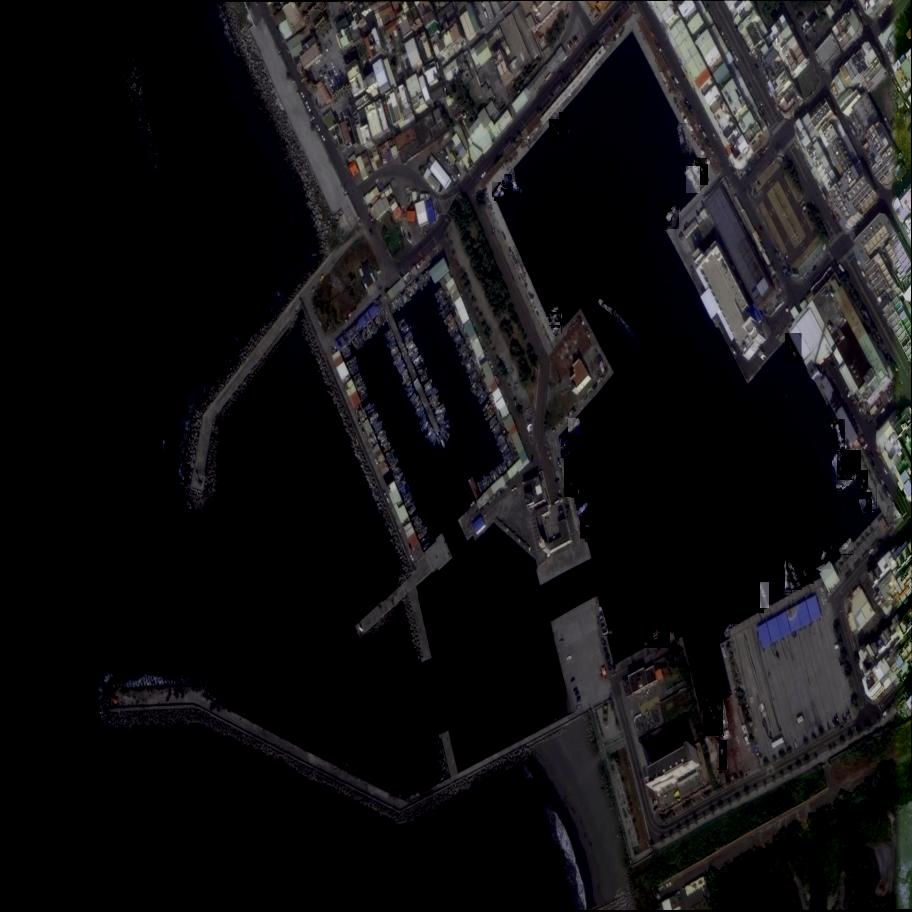ship: (702, 694, 725, 736), (640, 623, 673, 649), (832, 454, 855, 485), (836, 450, 859, 480), (716, 696, 731, 741), (784, 333, 804, 365), (747, 583, 766, 613), (796, 554, 815, 584), (565, 459, 579, 497), (662, 203, 681, 230), (686, 165, 709, 186), (596, 300, 619, 321), (547, 119, 567, 143), (787, 561, 803, 591), (816, 544, 833, 572), (843, 451, 863, 474), (685, 167, 701, 194), (730, 593, 743, 624), (678, 123, 690, 155), (833, 420, 845, 451), (599, 607, 611, 636), (760, 582, 773, 608), (695, 158, 708, 183), (838, 537, 855, 556), (859, 492, 873, 514), (719, 740, 728, 770), (867, 488, 878, 511), (555, 117, 566, 139), (567, 418, 582, 434), (492, 182, 507, 198), (559, 113, 569, 136), (858, 470, 869, 490), (835, 458, 842, 489), (511, 170, 520, 194), (493, 190, 512, 201), (577, 503, 591, 517), (546, 307, 562, 319), (786, 561, 792, 592), (855, 474, 865, 492), (859, 499, 868, 514), (553, 322, 564, 334), (549, 316, 561, 327), (548, 315, 561, 323), (497, 195, 508, 203), (505, 175, 513, 186), (501, 180, 513, 187), (580, 528, 588, 538), (561, 437, 565, 457), (585, 515, 590, 525), (552, 324, 561, 329), (565, 435, 567, 454), (585, 528, 589, 537), (584, 515, 585, 528), (581, 516, 582, 529)
